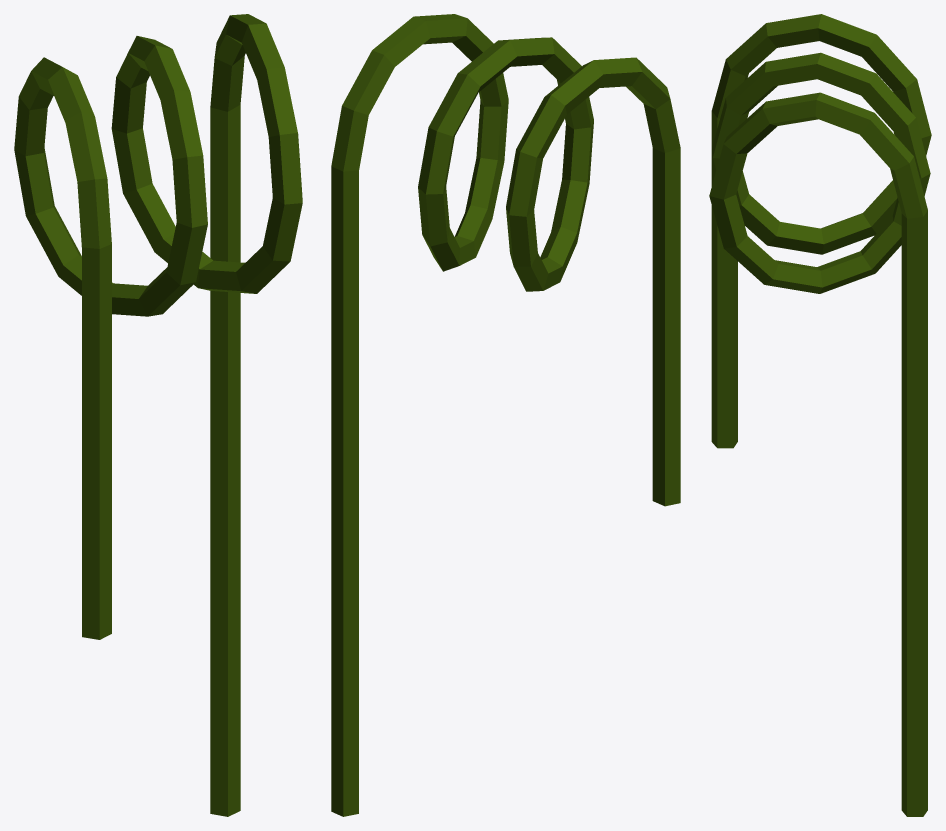
Rendered from Prop_Vegetation_Jungle_Vine_Wraped_04.FBX.
The picture shows the model from 3 angles, left to right: view 1: azimuth 30°, elevation 25°; view 2: azimuth 150°, elevation 25°; view 3: azimuth 270°, elevation 25°; orthographic projection. The views are drawn at different scales.
Parts seen in each view (by area): view 1: Prop_Vegetation_Jungle_Vine_Wraped_04; view 2: Prop_Vegetation_Jungle_Vine_Wraped_04; view 3: Prop_Vegetation_Jungle_Vine_Wraped_04.
Part boxes in pixels (x1,y1,x2,y2): Prop_Vegetation_Jungle_Vine_Wraped_04: (14,14,302,816); Prop_Vegetation_Jungle_Vine_Wraped_04: (331,14,680,816); Prop_Vegetation_Jungle_Vine_Wraped_04: (709,14,931,816).
Size of the model in its own units: 675 by 2023 by 576.
